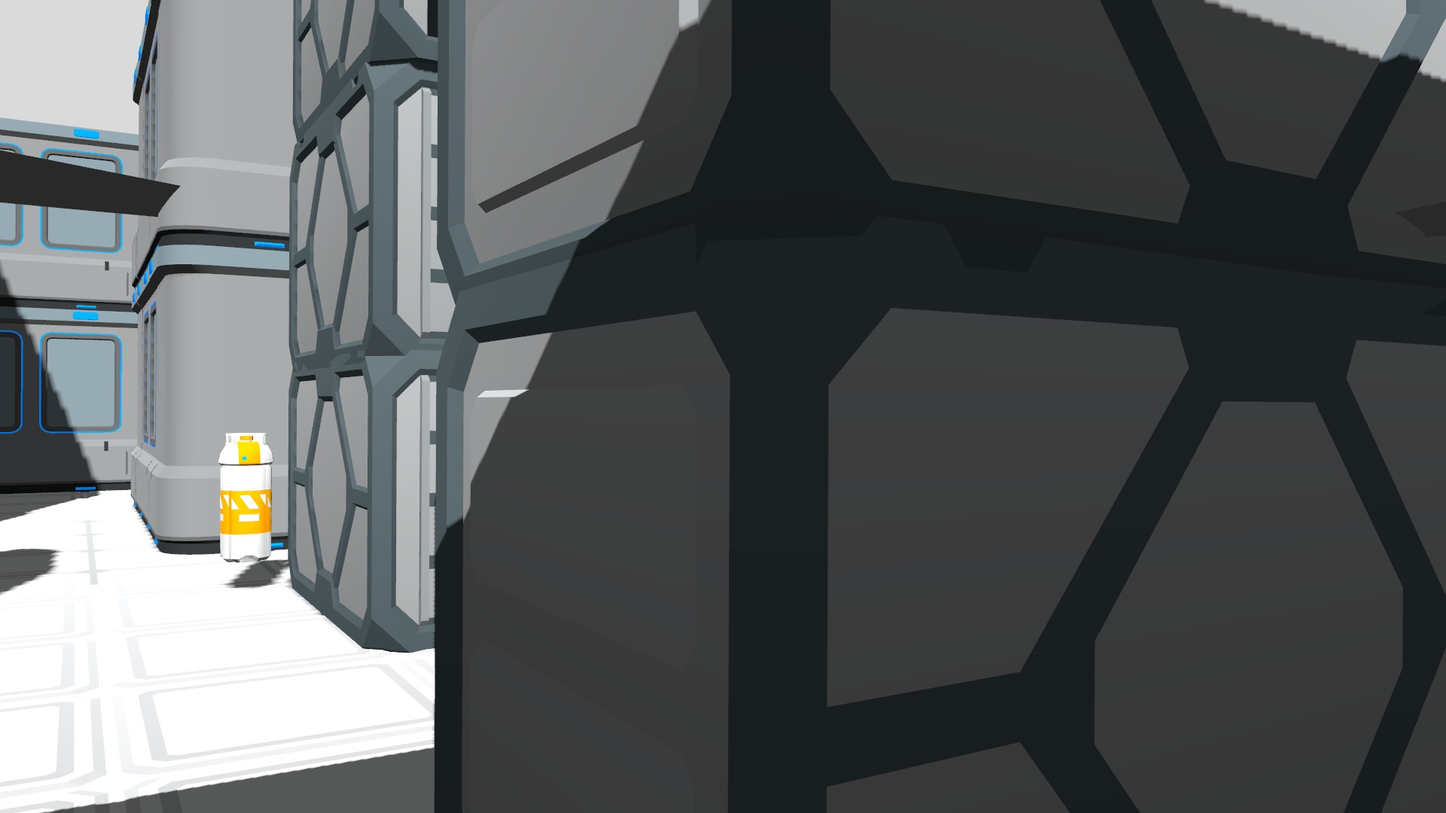yellow_barrel: (213, 425, 278, 566)
